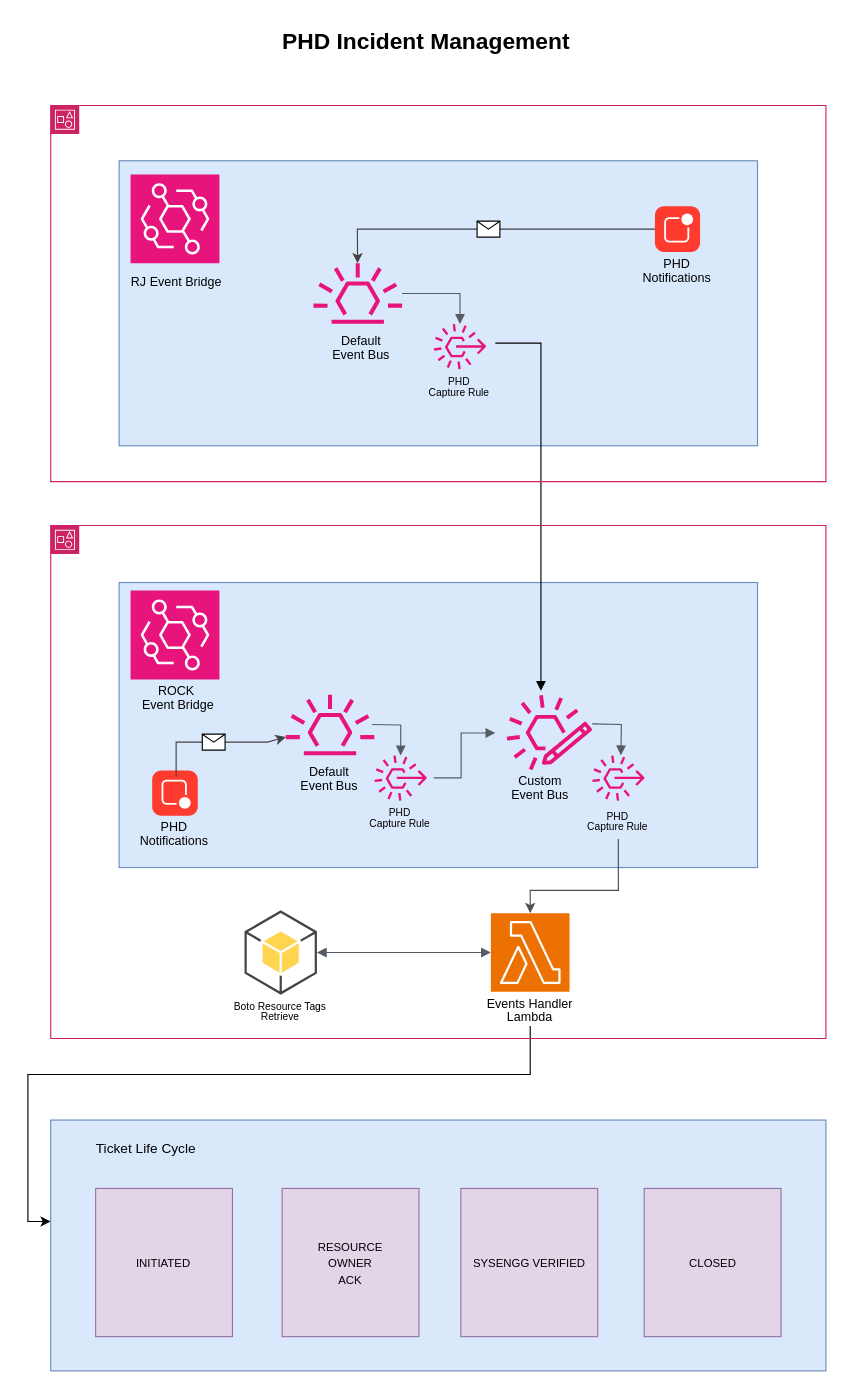
Some shapes in this 846 by 1391 pixel diagram are drawn without their labels. The box of each missing label's shape, as (x1, y1, x2, y2) in pixels:
RJ Account: (50, 104, 826, 482)
ROCK Account: (50, 524, 826, 1039)
